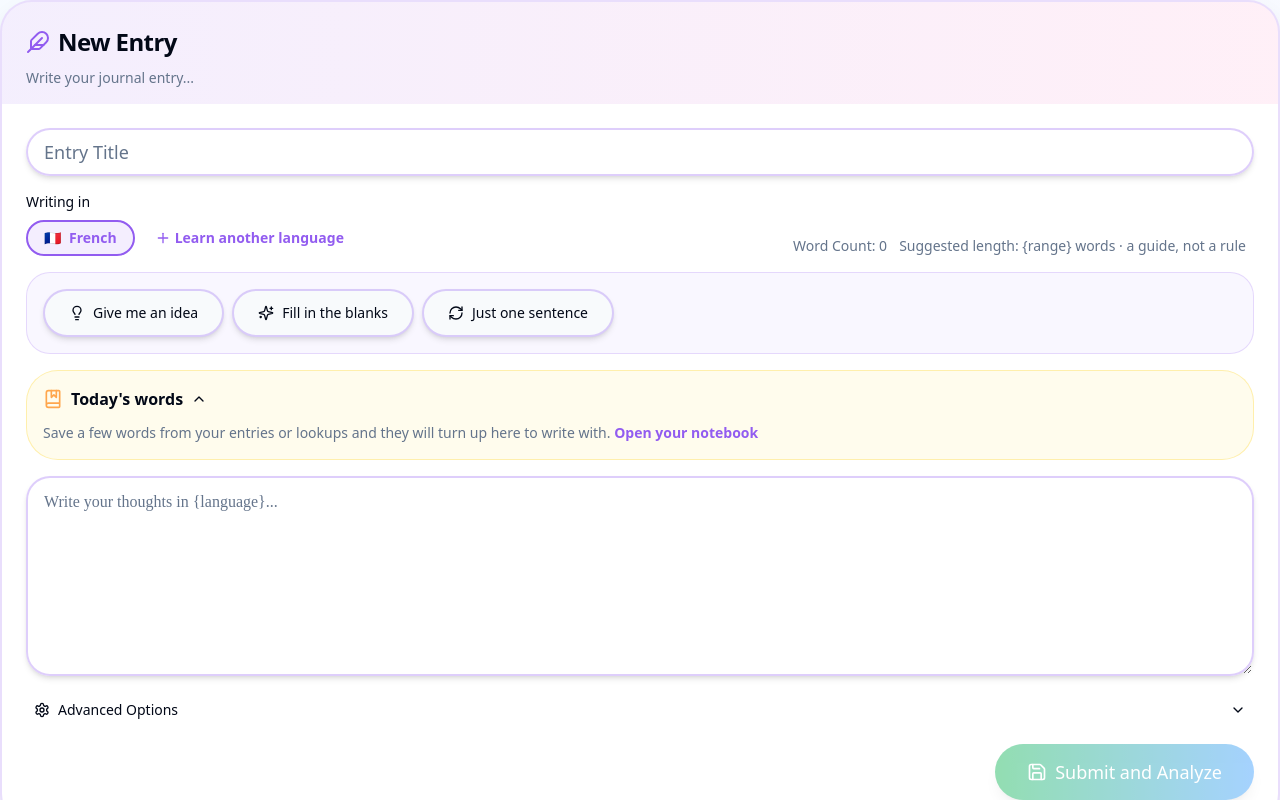
Scenario: JournalEditor without a title › submits with an automatic title made of the first words
Later steps or results of the test are not shown.
Expected: the radio button is shown, [26,220,135,256]
Type "Je suis allé au marché ce matin avec ma sœur." into the text box with placeholder "Write your thoughts in {language}..." at (640, 576), box [26,476,1254,676]
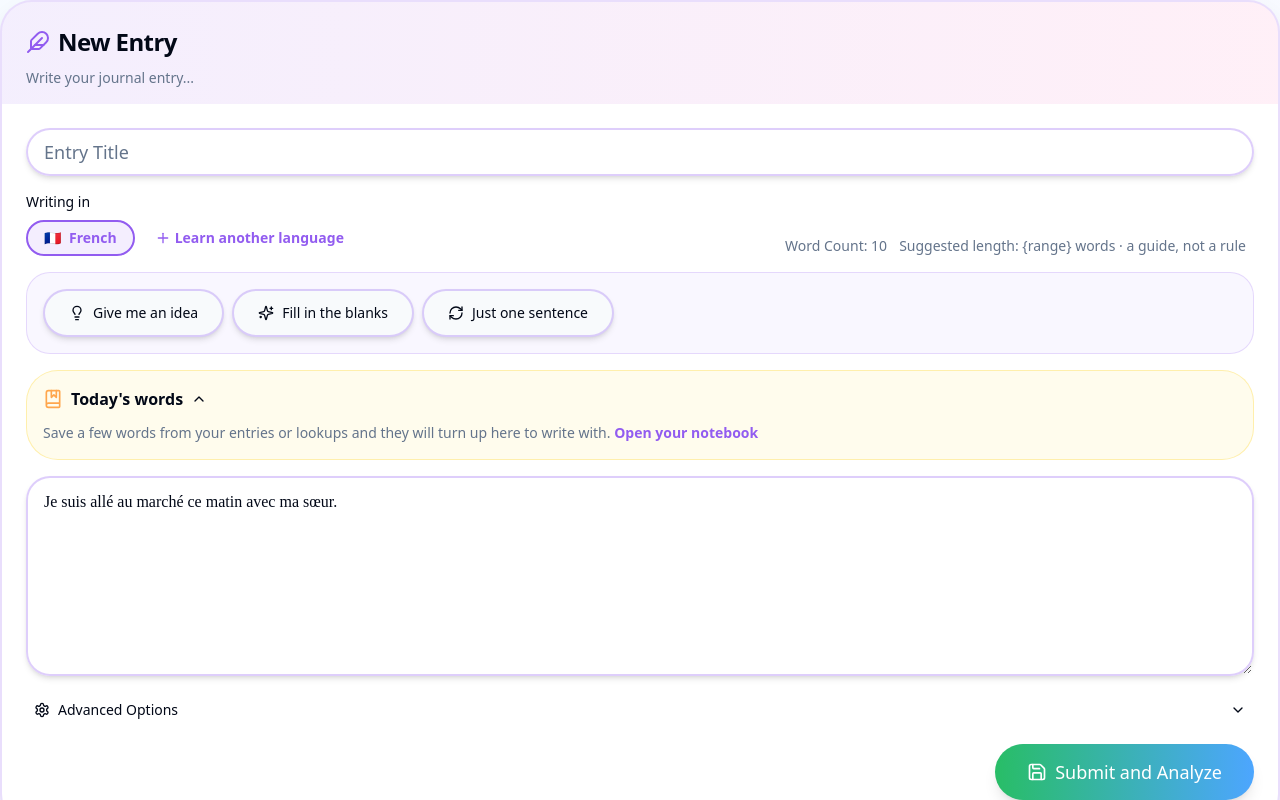
Now the button "Submit and Analyze" is enabled, box [995,744,1254,799]
